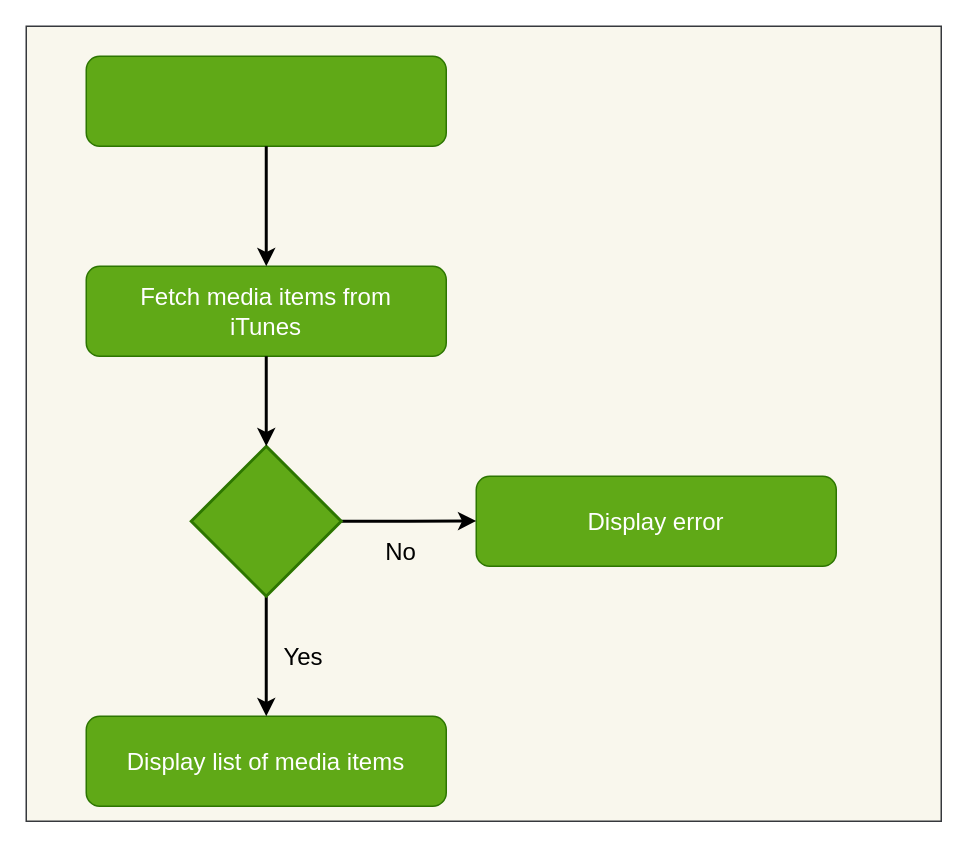
Some shapes in this 968 by 848 pixel diagram are drawn without their labels. The centre of each missing label's shape, as x and y in pixels:
"Show list of media items" belongs at (x=265, y=100).
"Success" belongs at (x=265, y=520).
